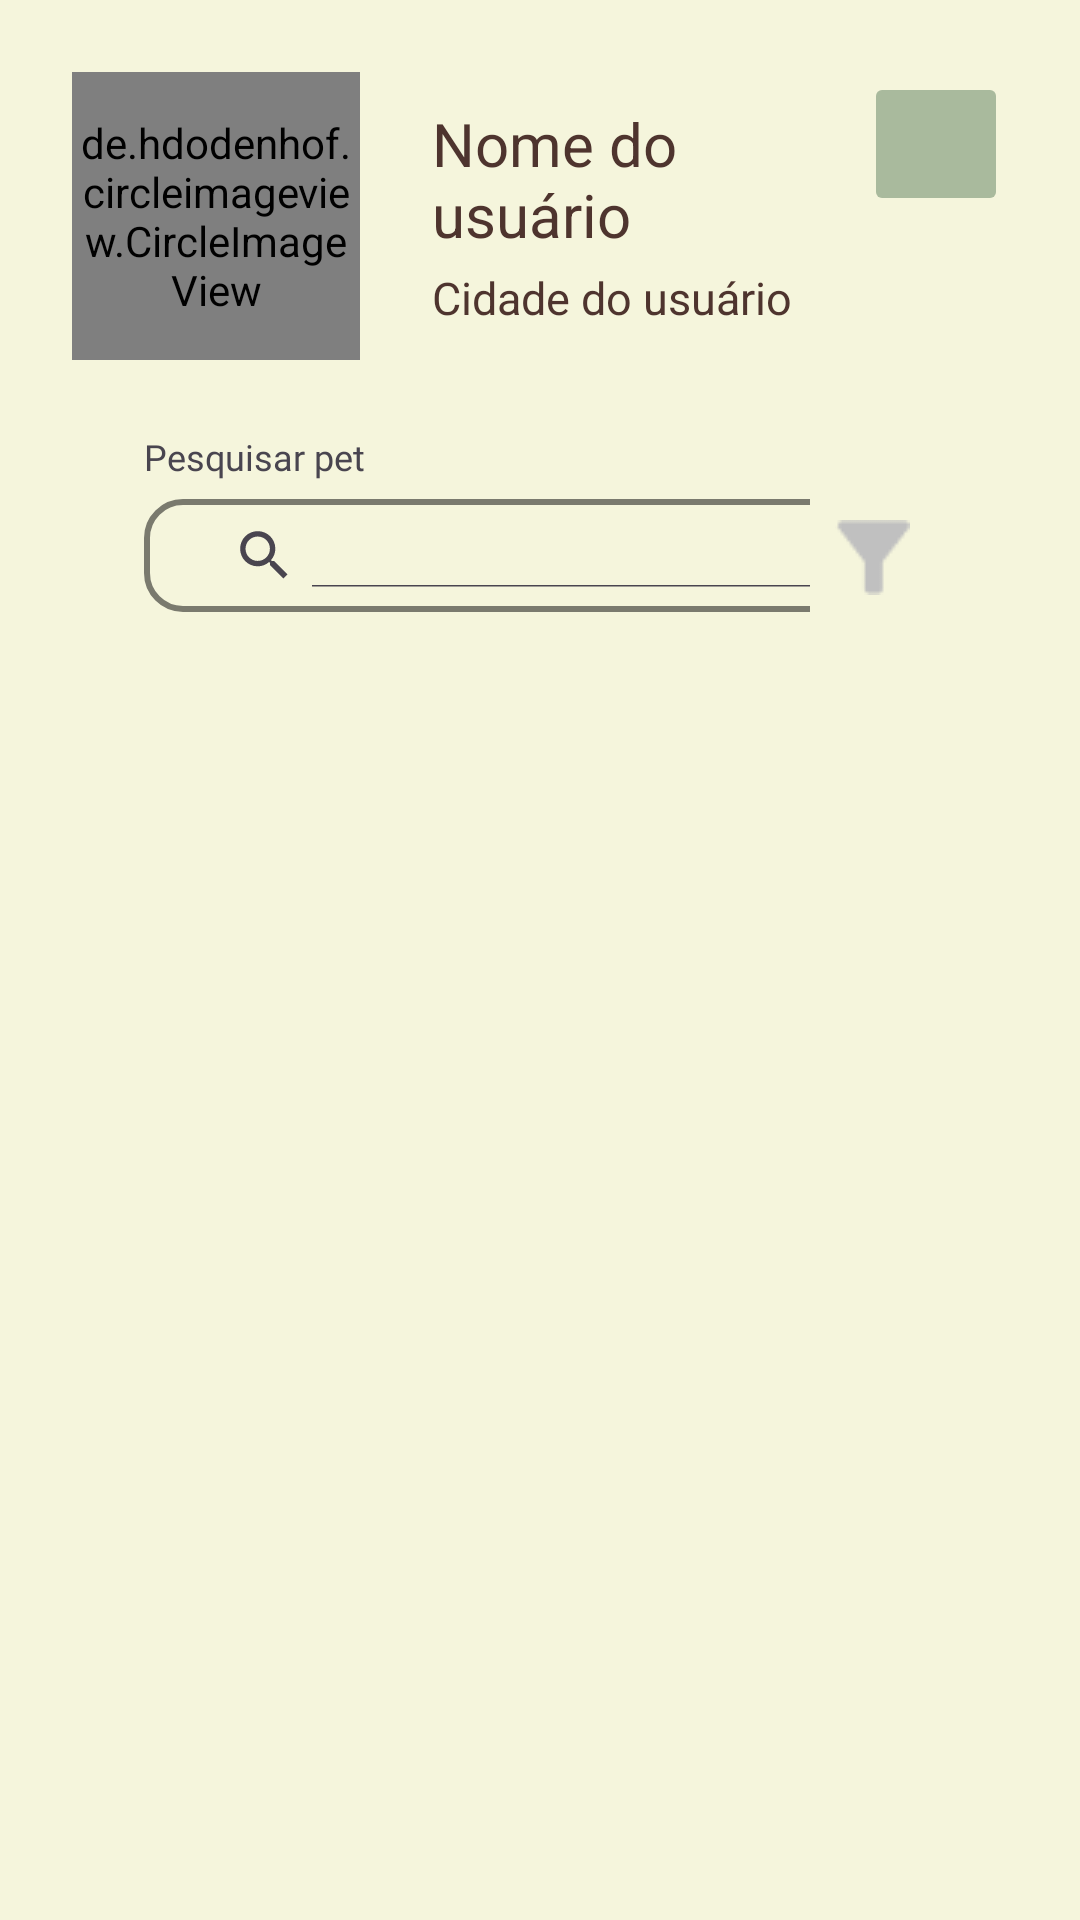

Where icons sit on this 1080px×1920px app screen, as [left=x1, top=y1, right=x2, bottom=y2]:
filter: [left=838, top=520, right=910, bottom=595]
